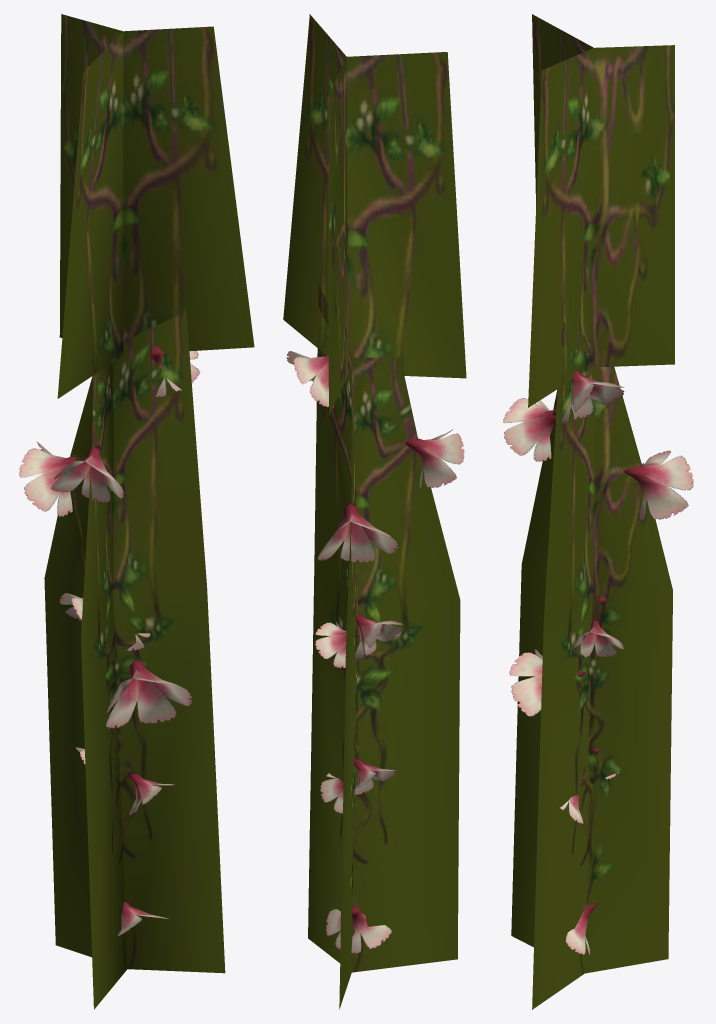
The model's file is environment_Tree_tengman_003_a.FBX.
3 views of the same model, side by side, from view 1: azimuth 30°, elevation 25°; view 2: azimuth 150°, elevation 25°; view 3: azimuth 270°, elevation 25° (orthographic).
Parts seen in each view (by area): view 1: environment_Tree_tengman_003_a, environment_Tree_tengman_003_b; view 2: environment_Tree_tengman_003_a, environment_Tree_tengman_003_b; view 3: environment_Tree_tengman_003_a, environment_Tree_tengman_003_b.
Boxes of the visible parts, x1=… form: environment_Tree_tengman_003_a: x1=44, y1=14, x2=254, y2=1009; environment_Tree_tengman_003_b: x1=19, y1=346, x2=200, y2=935; environment_Tree_tengman_003_a: x1=283, y1=14, x2=466, y2=1009; environment_Tree_tengman_003_b: x1=286, y1=351, x2=464, y2=953; environment_Tree_tengman_003_a: x1=511, y1=14, x2=674, y2=1009; environment_Tree_tengman_003_b: x1=503, y1=370, x2=693, y2=955.
Size of the model in its own units: 69.6 by 315 by 62.38.
2 materials, 2 textured.
